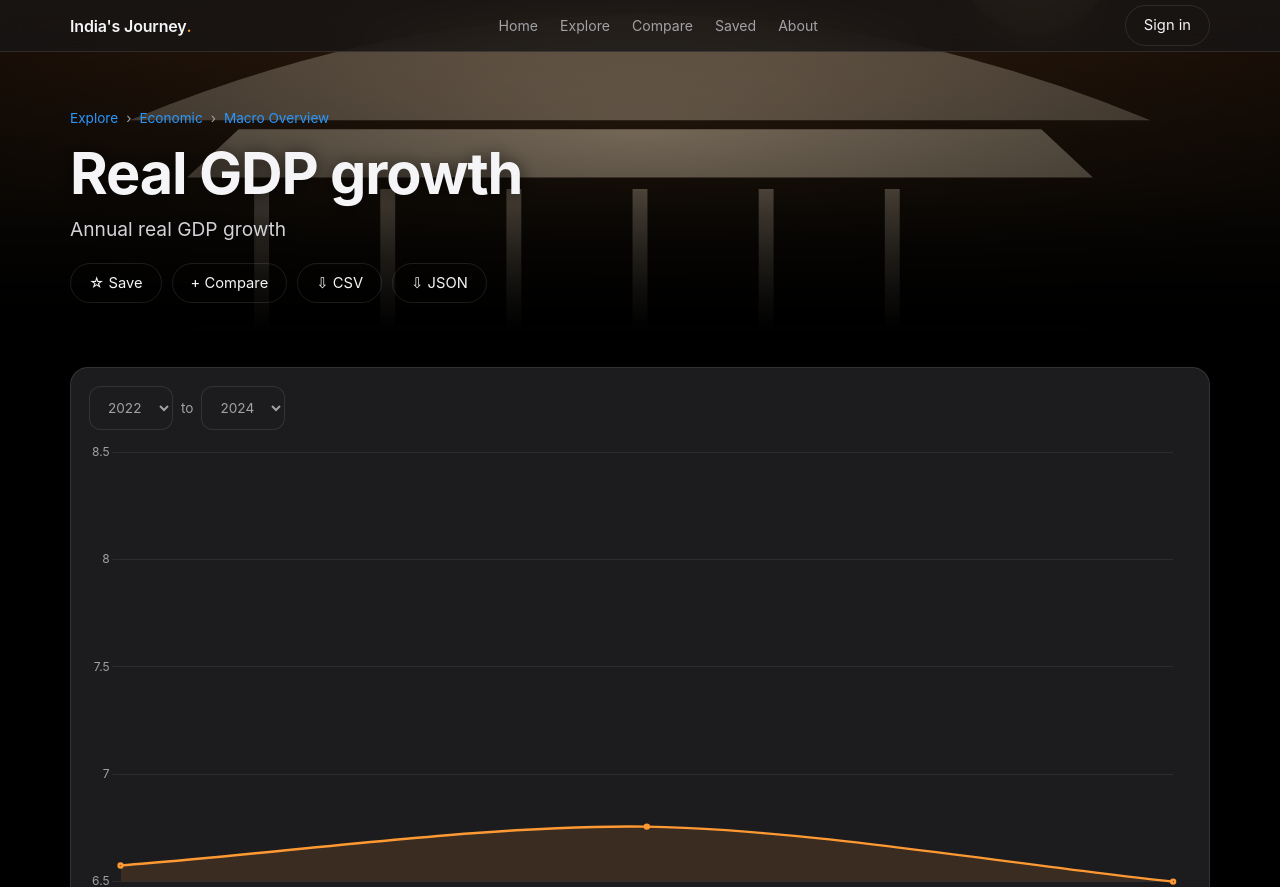
Test: Indicator detail › sends anonymous users to sign in when saving
The width and height of the screenshot is (1280, 887).
Click the button "☆ Save": point(116, 283) 70,263 -> 162,303
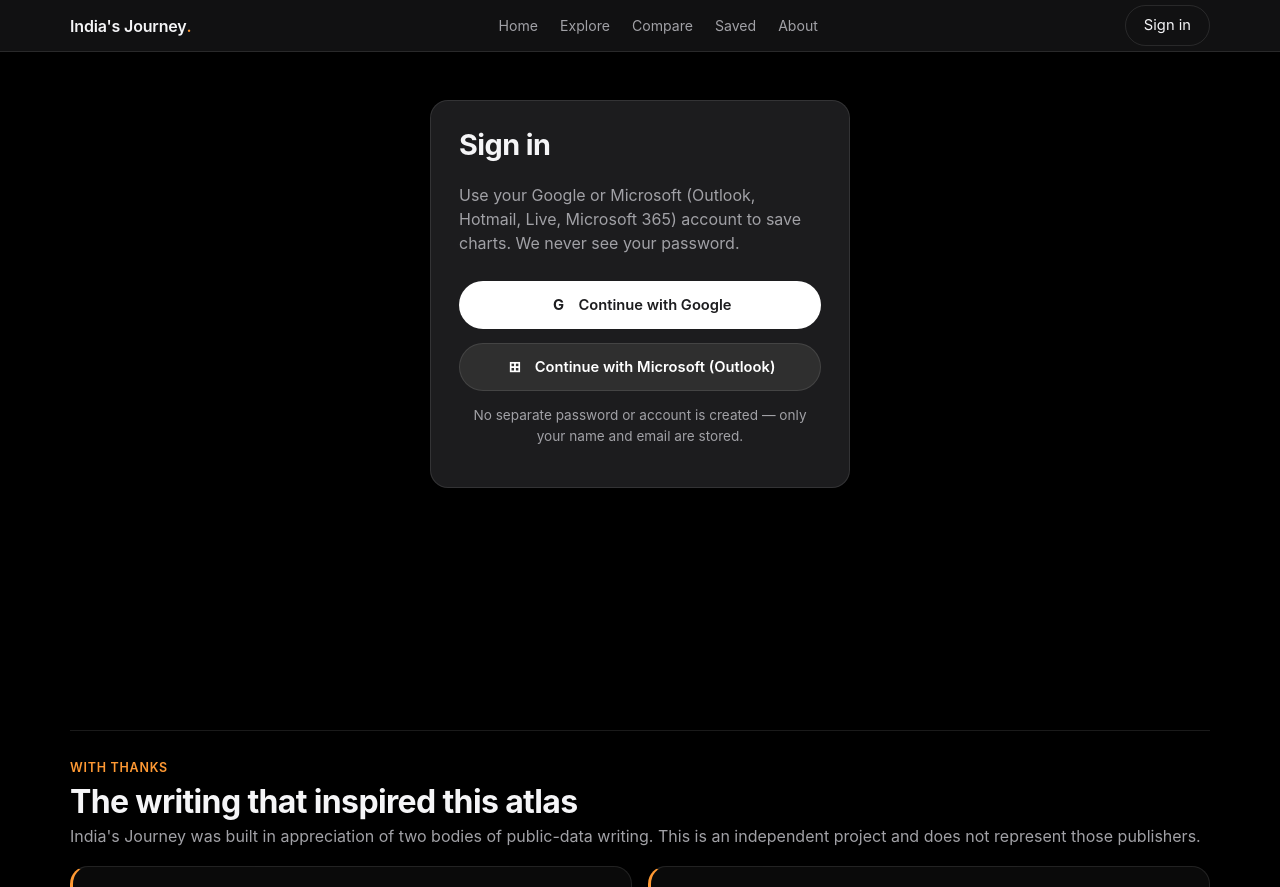
Check: the heading "Sign in" is shown, box 459,127 -> 550,162
